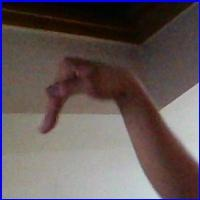A: (38, 50, 144, 142)
